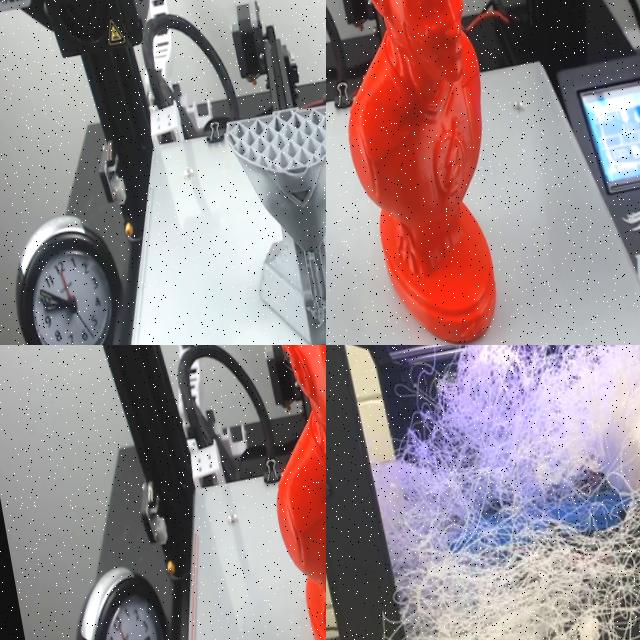spaghetti: (330, 345, 640, 640)
